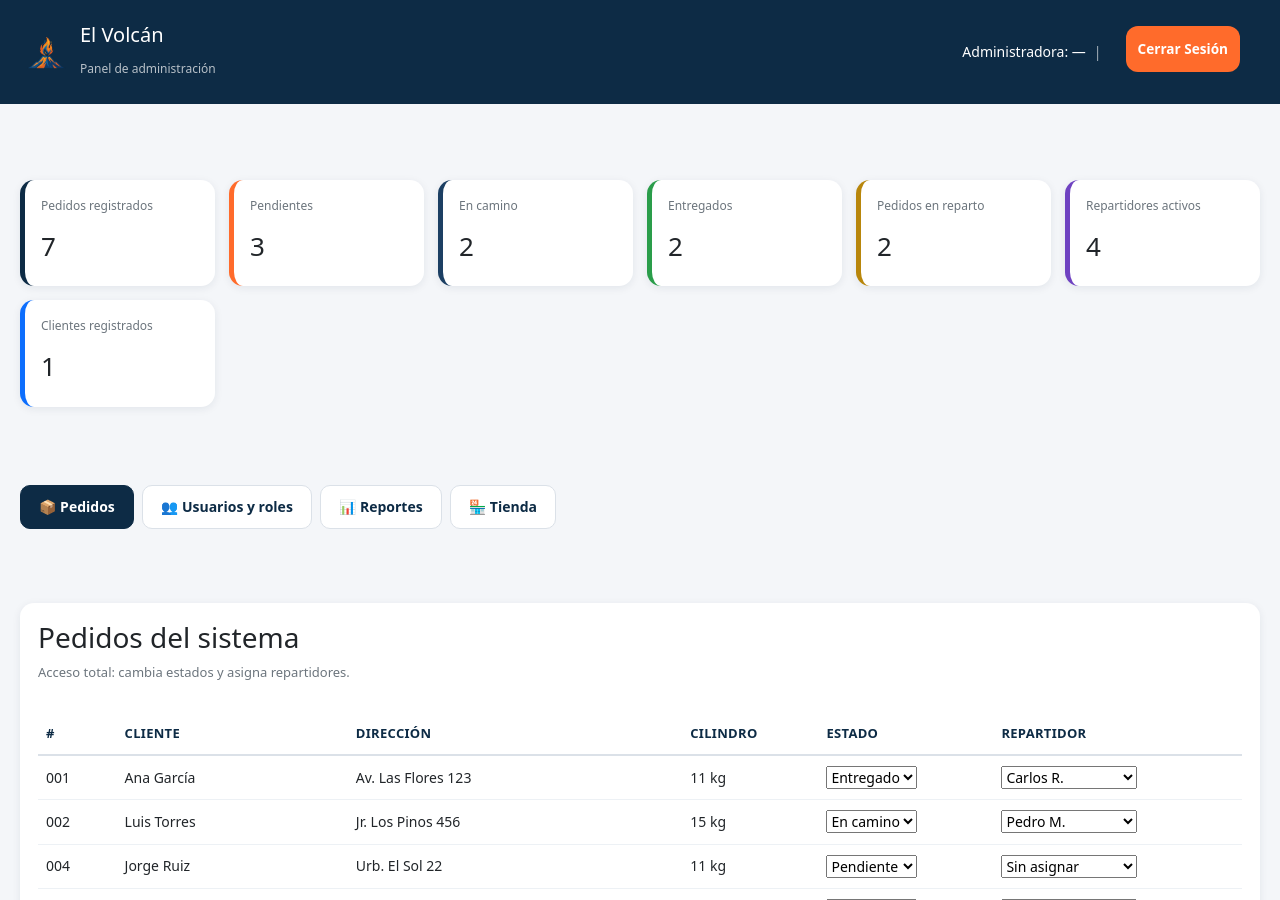
Scenario: Panel del administrador (sistema) › deberia cambiar a la pestaña de usuarios y mostrar la tabla
Step 1. Click the button "👥 Usuarios y roles" → (227, 507), box [142,484,312,529]
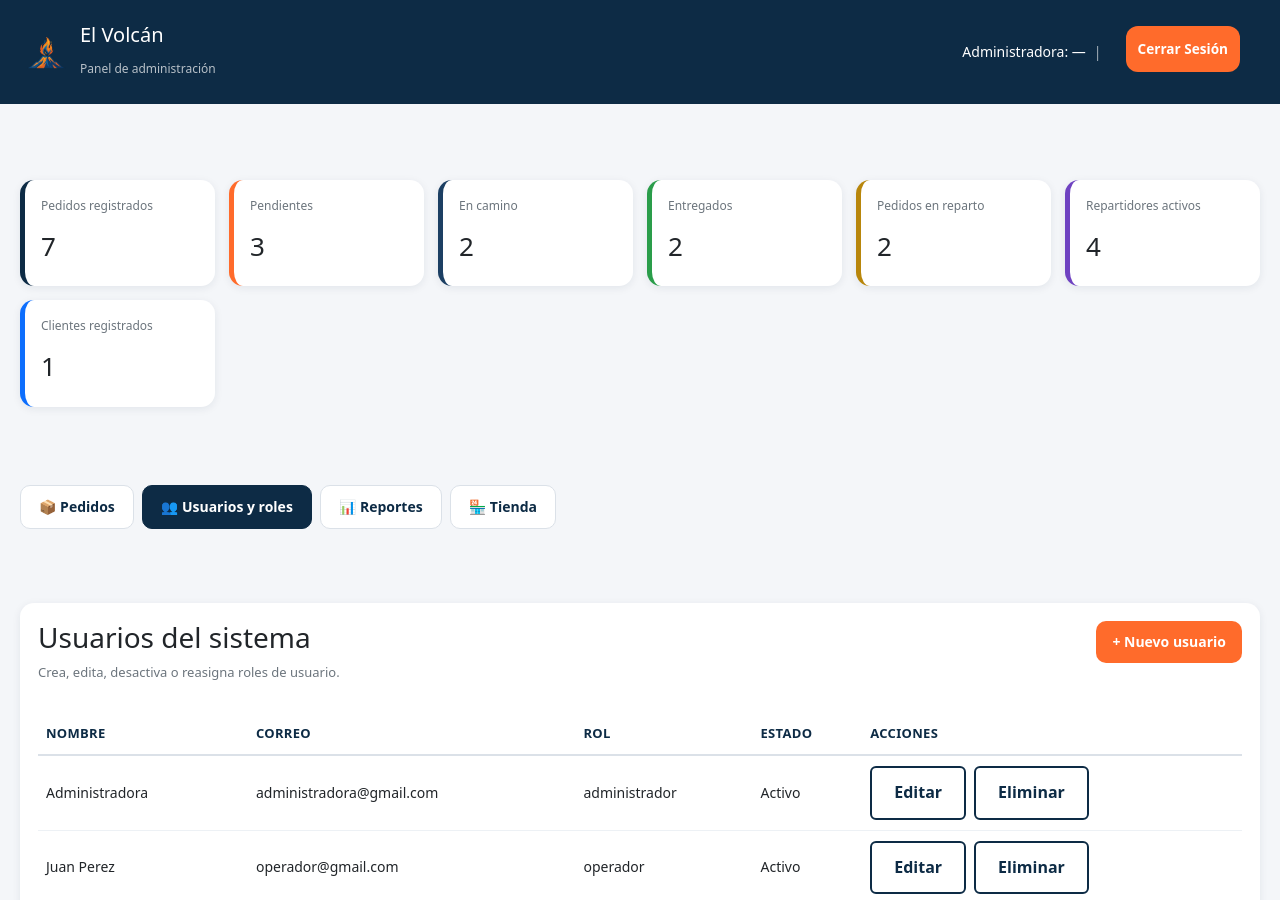
Expected: the heading "Usuarios del sistema" is shown, [38,621,340,654]
Expected: the text "administradora@gmail.com" is shown, [248,755,575,830]
